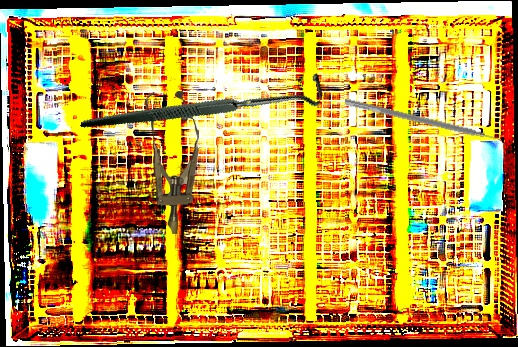Hook Surgical: (80, 0, 329, 204)
Spatula Surgical: (342, 98, 510, 150)
Speculum: (142, 90, 203, 235)
